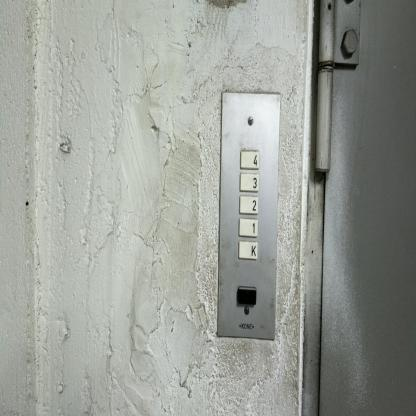1: (238, 216, 258, 239)
2: (238, 193, 259, 215)
3: (239, 172, 260, 194)
4: (239, 149, 260, 170)
K: (237, 238, 258, 261)
empty: (236, 284, 257, 306)
